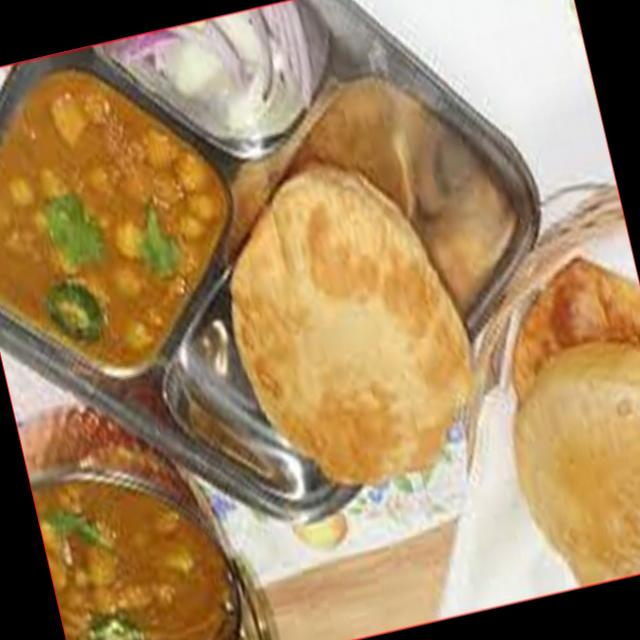Bhatura: (200, 136, 498, 511), (470, 242, 640, 596)
